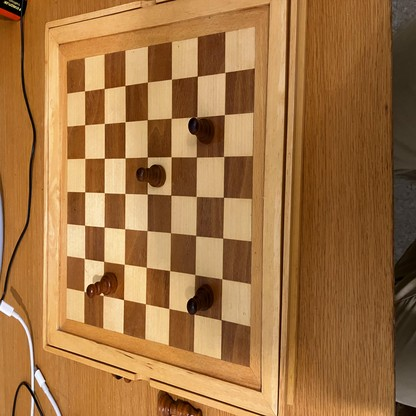pawn_black: (156, 394, 204, 416), (187, 286, 214, 314), (87, 272, 117, 297), (188, 118, 215, 144), (139, 164, 165, 189)
